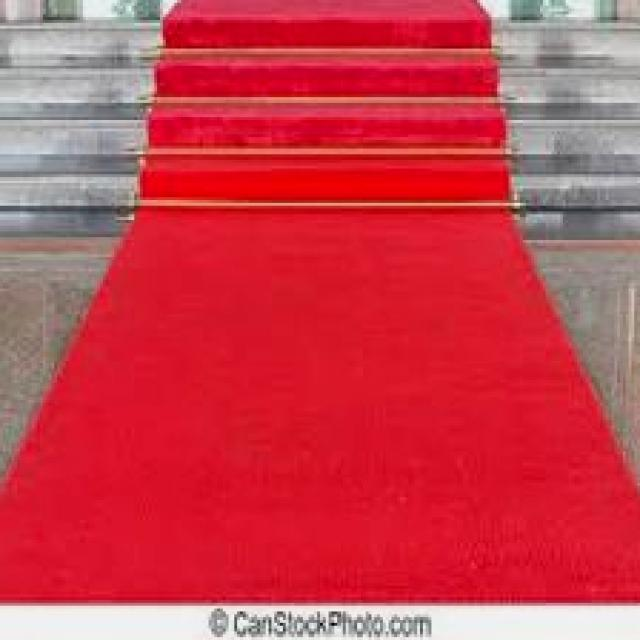upstair: (138, 15, 530, 230)
